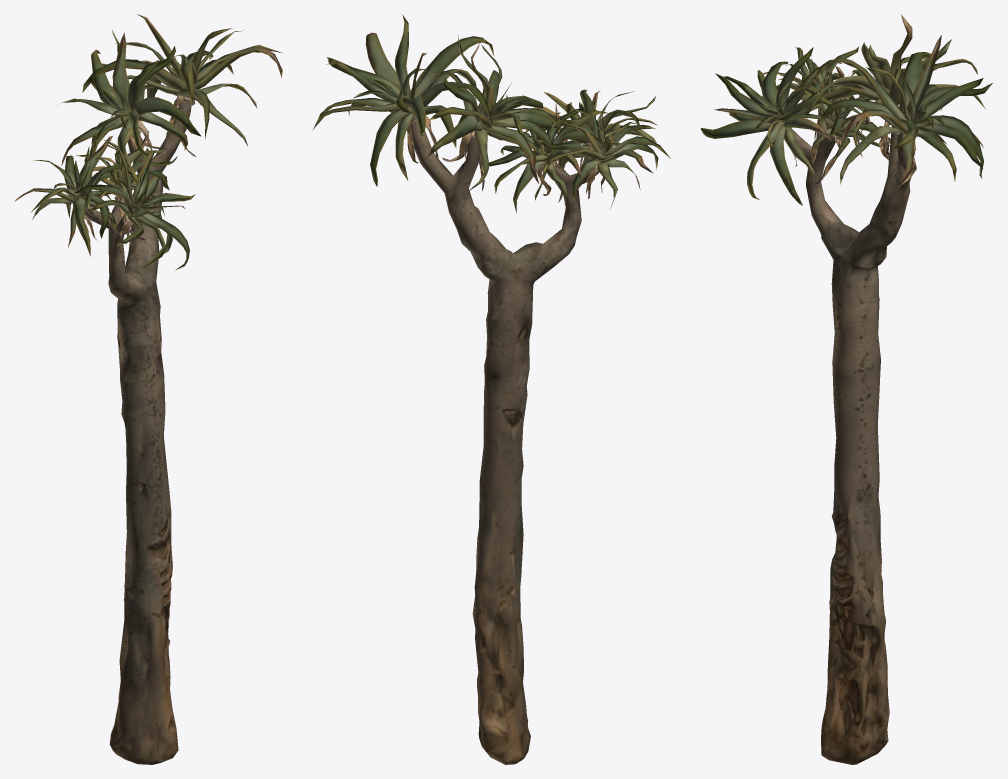
File: ph-quiver-tree-01.lod1.glb
3 renders of one model, left to right at view 1: azimuth 30°, elevation 25°; view 2: azimuth 150°, elevation 25°; view 3: azimuth 270°, elevation 25°, orthographic. The views are drawn at different scales.
Parts seen in each view (by area): view 1: quiver_tree_01; view 2: quiver_tree_01; view 3: quiver_tree_01.
Part boxes in pixels (bbox=[...]): quiver_tree_01: bbox=[14, 14, 282, 764]; quiver_tree_01: bbox=[312, 14, 670, 764]; quiver_tree_01: bbox=[700, 14, 992, 764].
Bounding box in the file's own units: 1.18 × 2.72 × 0.9673.
2 materials, 2 textured.
